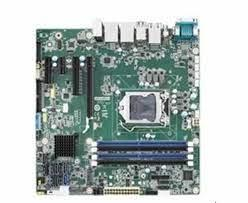Printed Circuit Board PCB: (37, 21, 198, 195)
